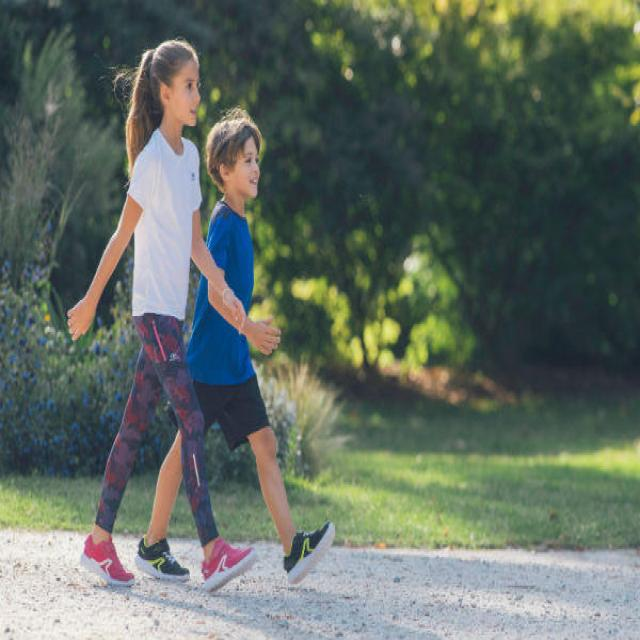Person: (67, 41, 259, 590), (136, 118, 338, 586)
